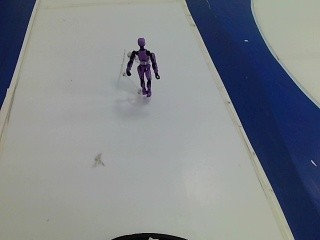pedestrian: (112, 32, 170, 108)
